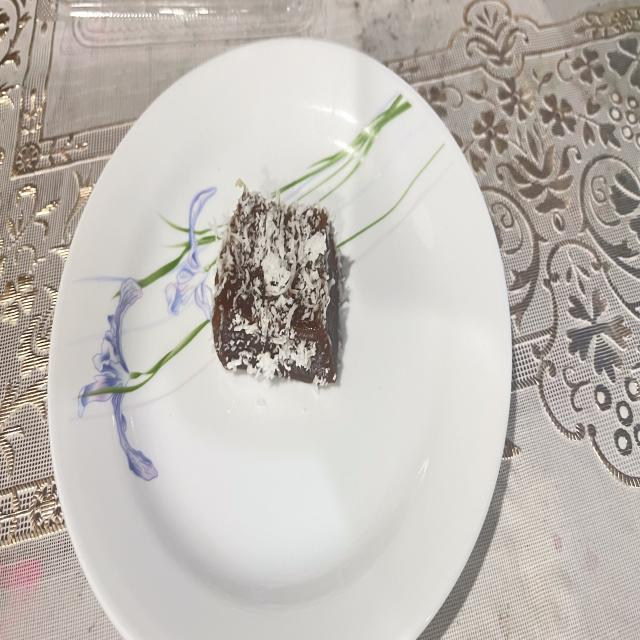kaswi: (212, 187, 339, 384)
